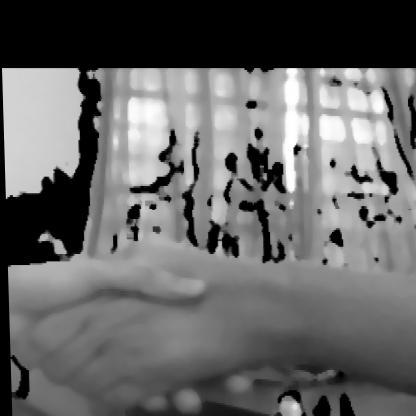handshake: (4, 200, 415, 415)
